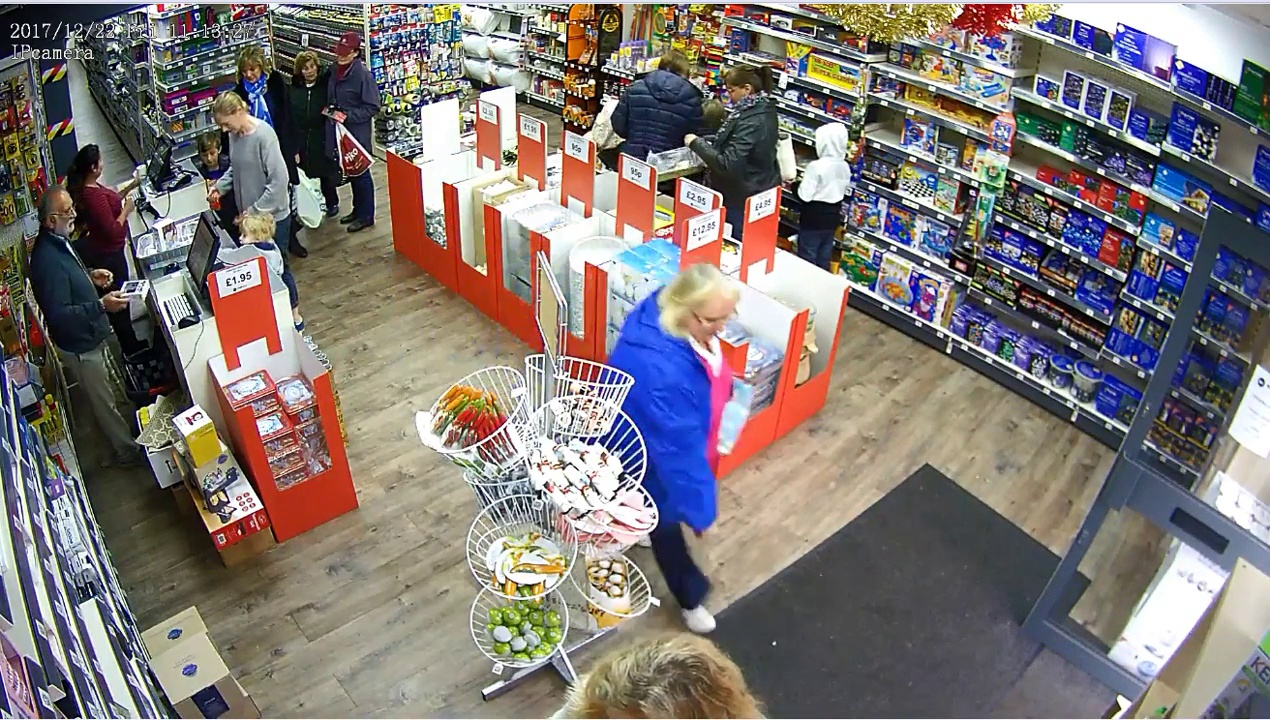face: (53, 201, 80, 236), (211, 104, 238, 135), (238, 55, 260, 83), (297, 61, 318, 85), (199, 147, 221, 165)
